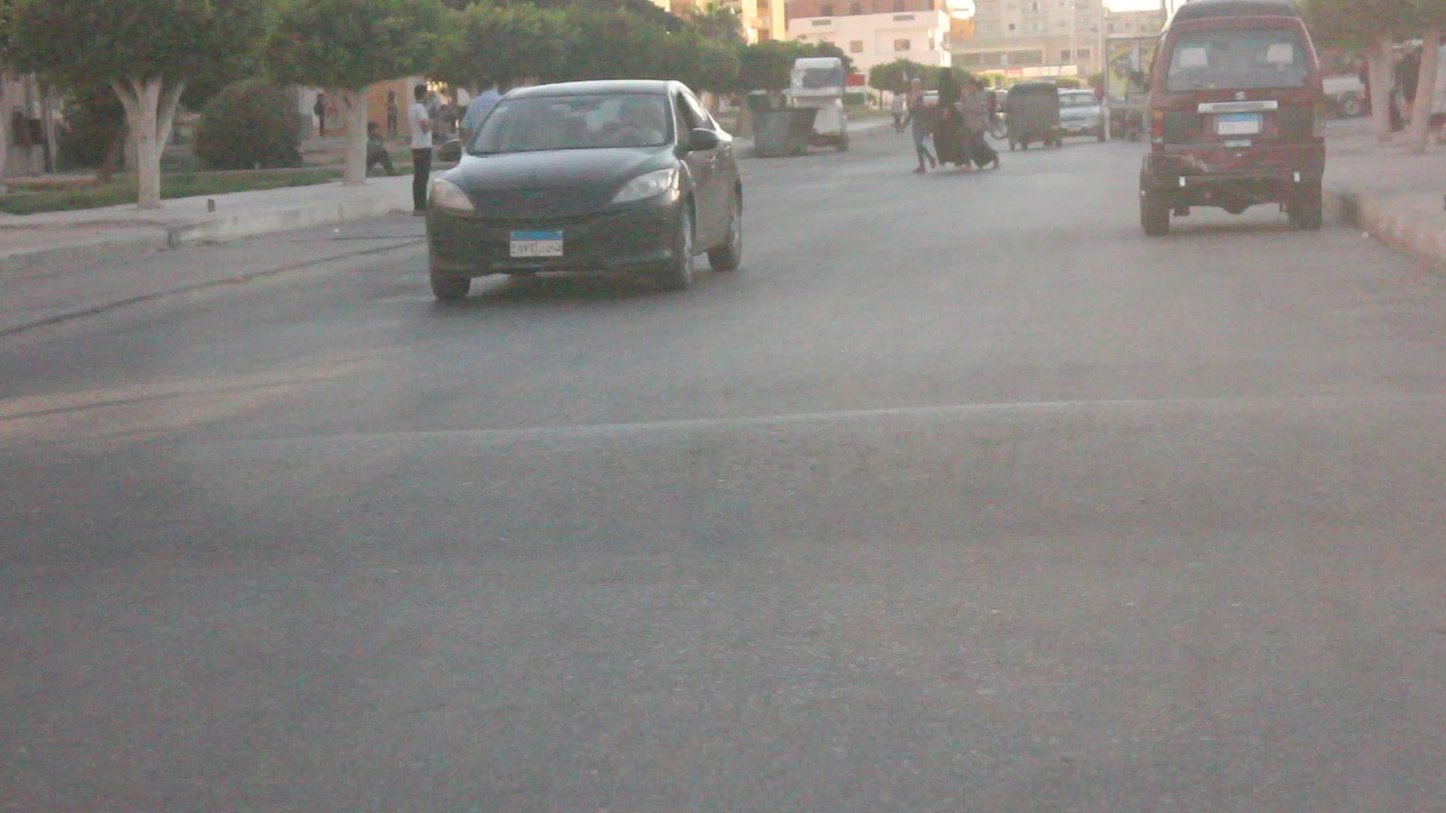Bump: (0, 410, 1445, 536)
